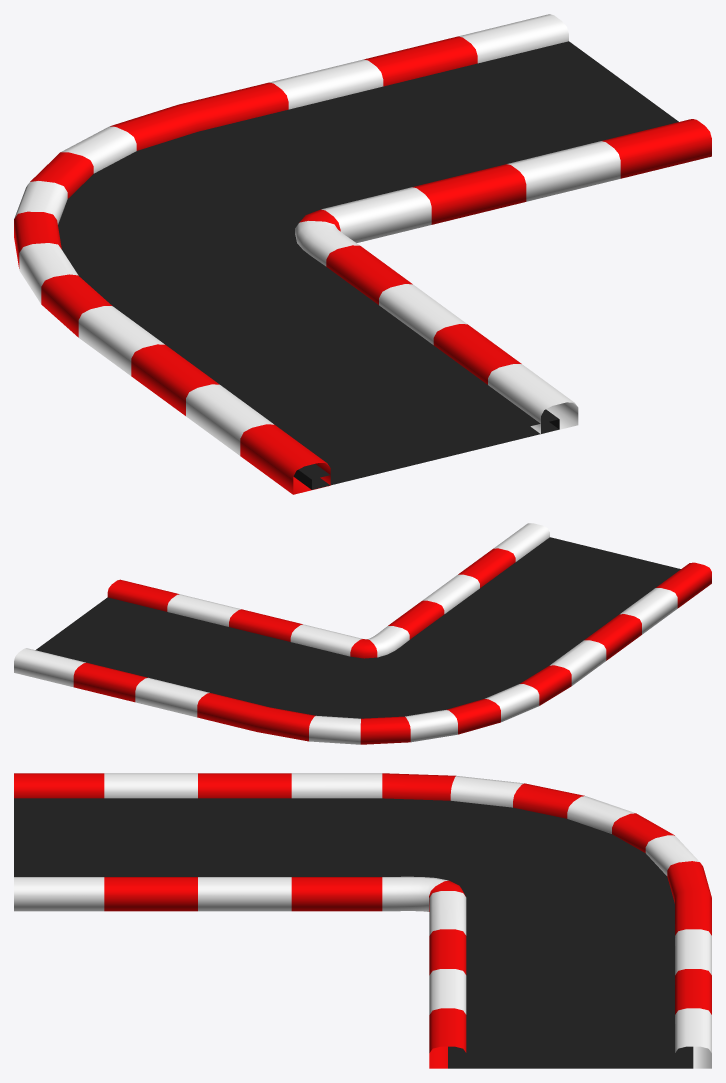
The model's file is CurvedTrack01.obj.
3 views of the same model, one above another, from view 1: azimuth 30°, elevation 25°; view 2: azimuth 150°, elevation 25°; view 3: azimuth 270°, elevation 25° (orthographic). The views are drawn at different scales.
Visible parts, largest first — view 1: CurvedTrack01_Cube.001; view 2: CurvedTrack01_Cube.001; view 3: CurvedTrack01_Cube.001.
Boxes of the visible parts, <box> form: CurvedTrack01_Cube.001: <box>14,14,711,494</box>; CurvedTrack01_Cube.001: <box>14,523,711,744</box>; CurvedTrack01_Cube.001: <box>14,773,711,1068</box>.
Size of the model in its own units: 48.02 by 1.78 by 51.17.
